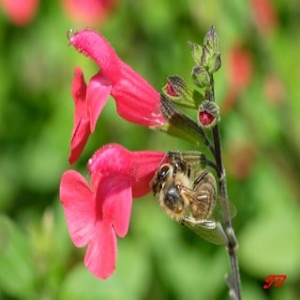bee: (152, 156, 236, 251)
